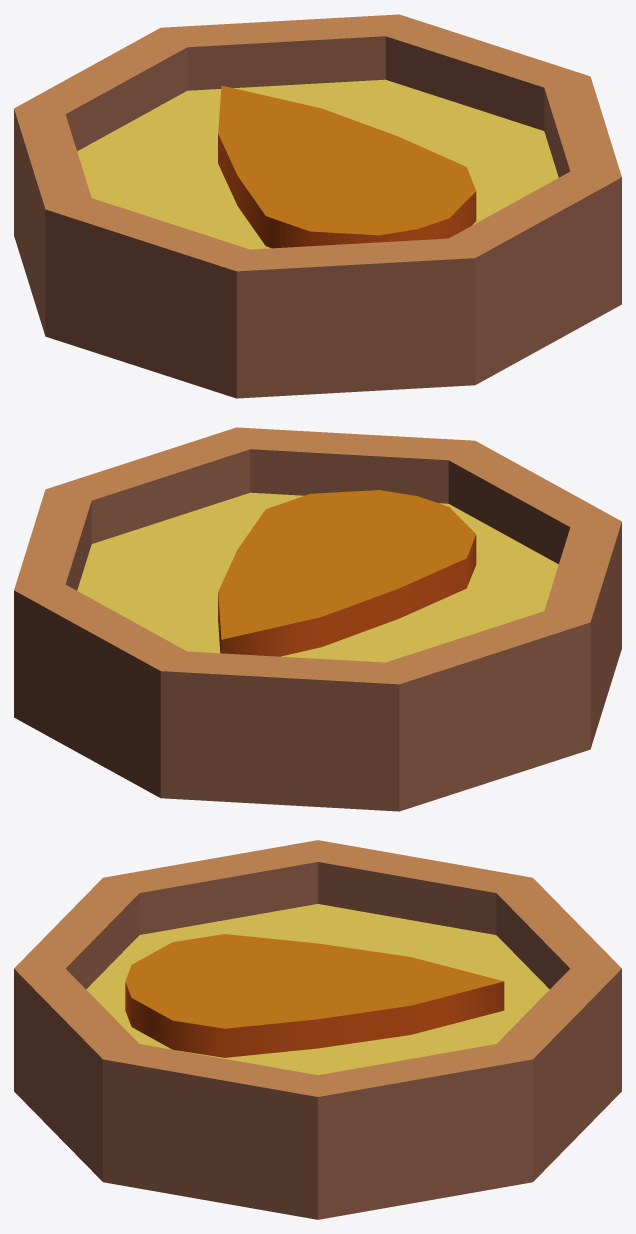
The model's file is GotaRef_2.FBX.
The picture shows the model from 3 angles, top to bottom: view 1: azimuth 30°, elevation 25°; view 2: azimuth 150°, elevation 25°; view 3: azimuth 270°, elevation 25°; orthographic projection. The views are drawn at different scales.
Visible parts, largest first — view 1: BaseColor_01; view 2: BaseColor_01; view 3: BaseColor_01.
Part boxes in pixels (bbox=[...]): BaseColor_01: bbox=[14, 14, 621, 398]; BaseColor_01: bbox=[14, 427, 621, 811]; BaseColor_01: bbox=[14, 840, 621, 1219].
Bounding box in the file's own units: 51.67 × 11.52 × 51.67.
